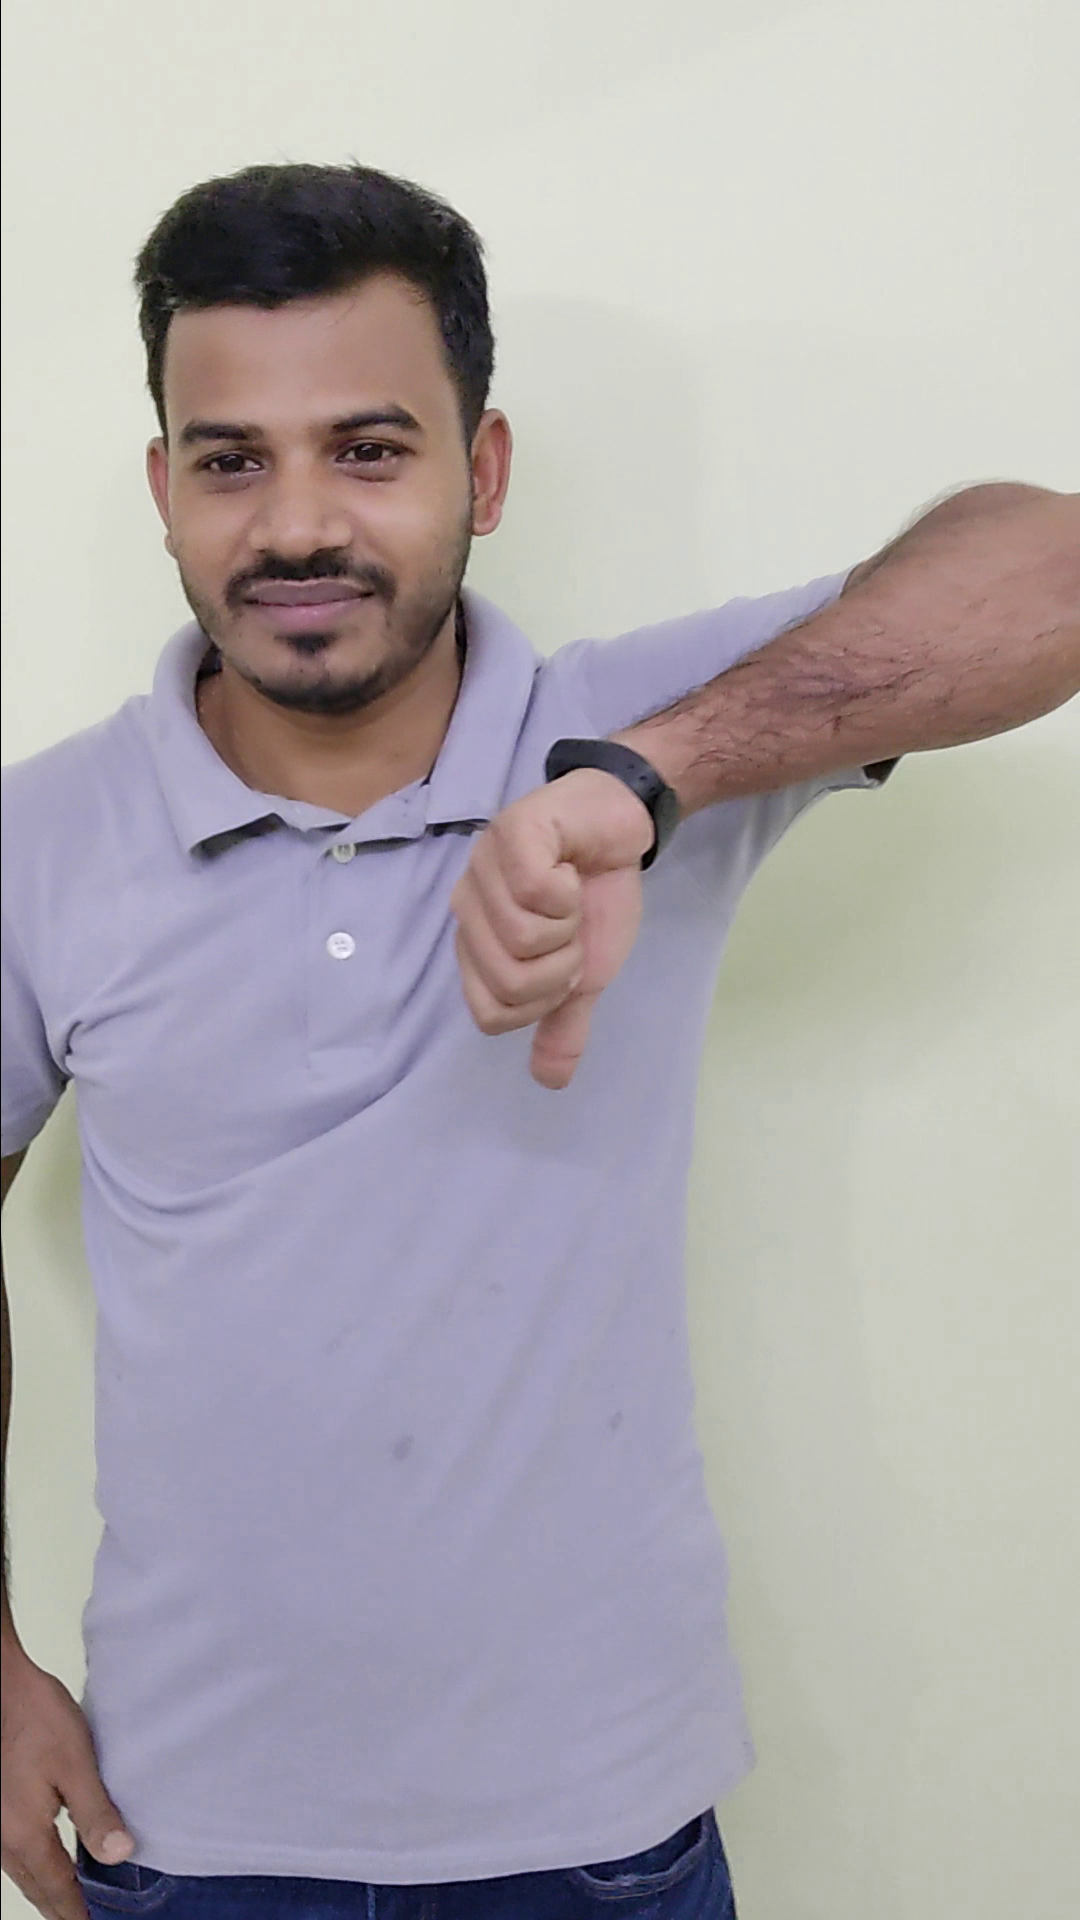Dislike: (440, 735, 669, 1108)
None: (0, 1625, 165, 1920)
